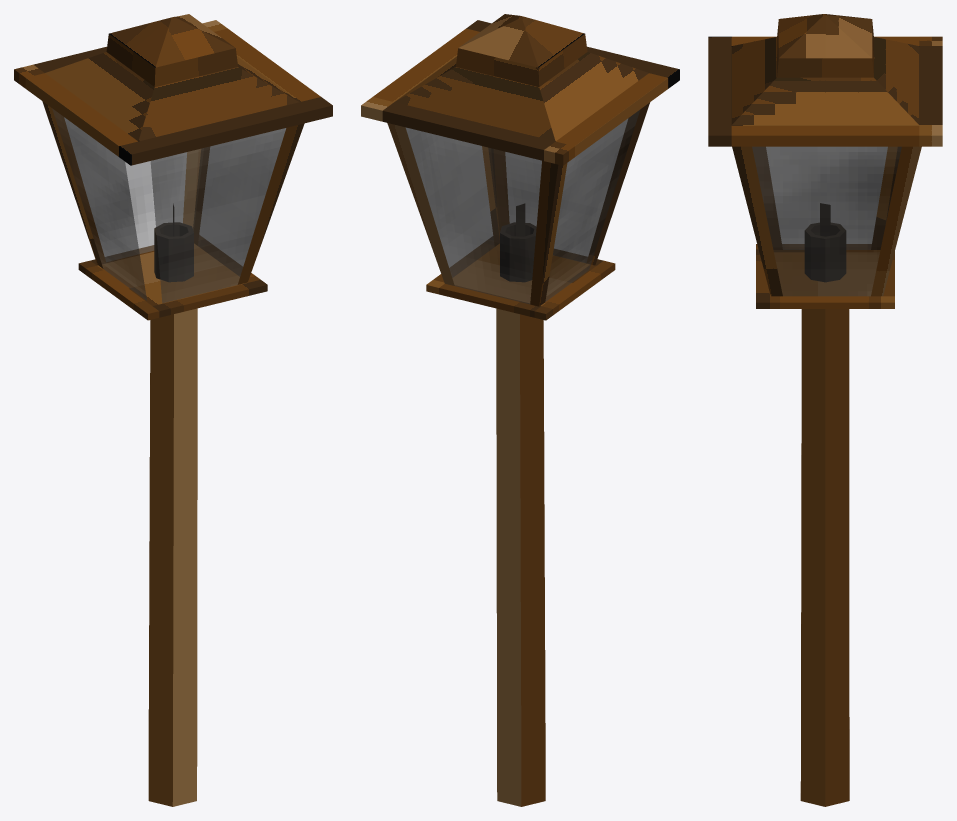
File: lamp_post_889x08.gltf
The picture shows the model from 3 angles, left to right: view 1: azimuth 30°, elevation 25°; view 2: azimuth 150°, elevation 25°; view 3: azimuth 270°, elevation 25°; orthographic projection.
Parts seen in each view (by area): view 1: lamp_post_889x08; view 2: lamp_post_889x08; view 3: lamp_post_889x08.
Boxes of the visible parts, x1,y1,x2,y2 form: lamp_post_889x08: [14, 14, 332, 806]; lamp_post_889x08: [361, 14, 679, 806]; lamp_post_889x08: [708, 14, 942, 806].
Bounding box in the file's own units: 2 × 7.35 × 2.
2 materials, 2 textured.
